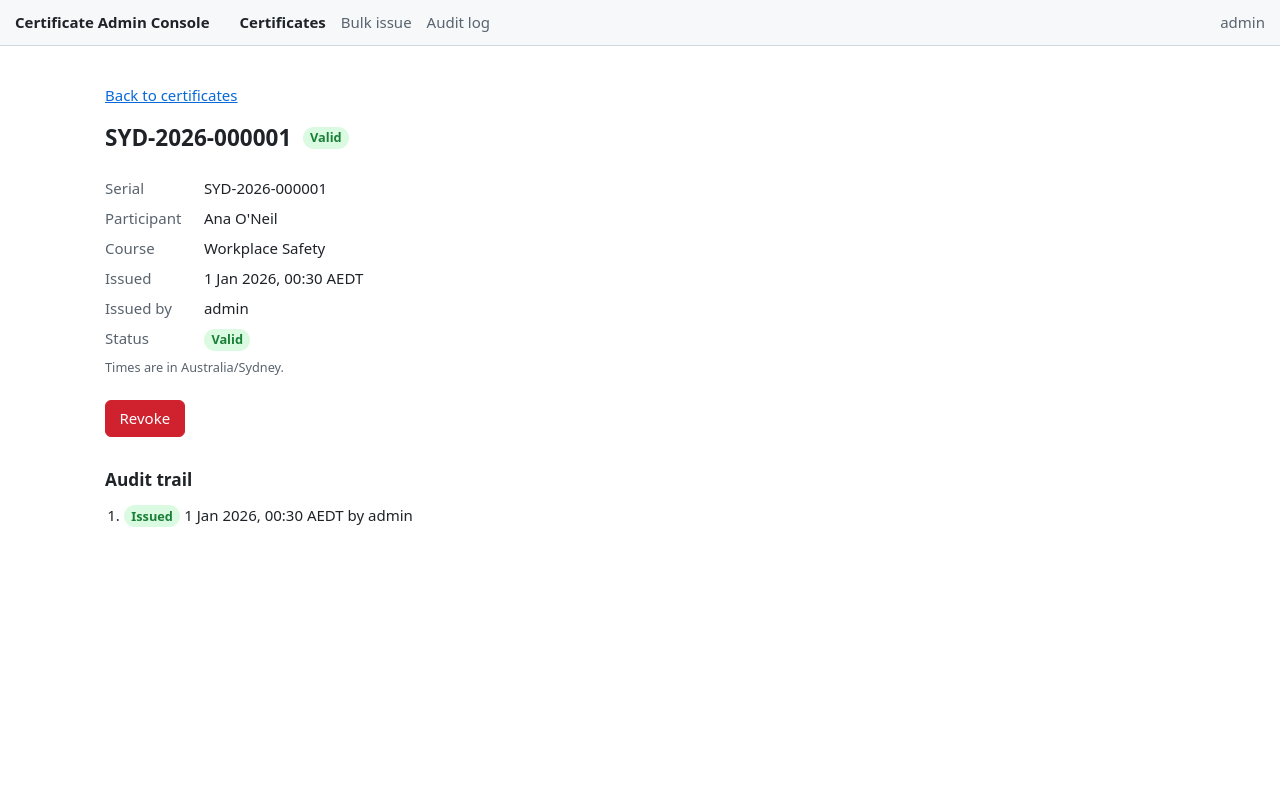
CertificateDetailPage › sends an empty body when no reason is given
Click the button "Revoke" at (145,418), box [105, 400, 185, 436]
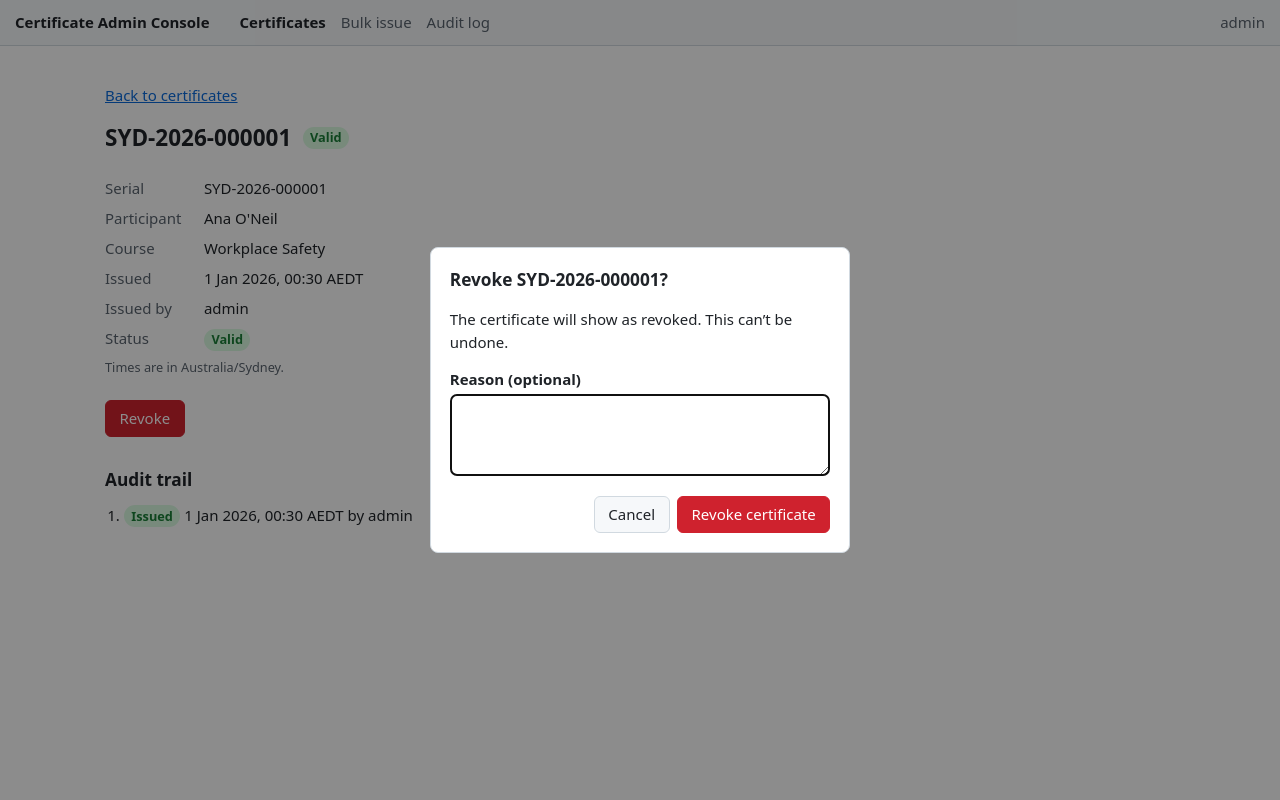
Click the button "Revoke certificate" at (754,515), box [677, 496, 830, 533]
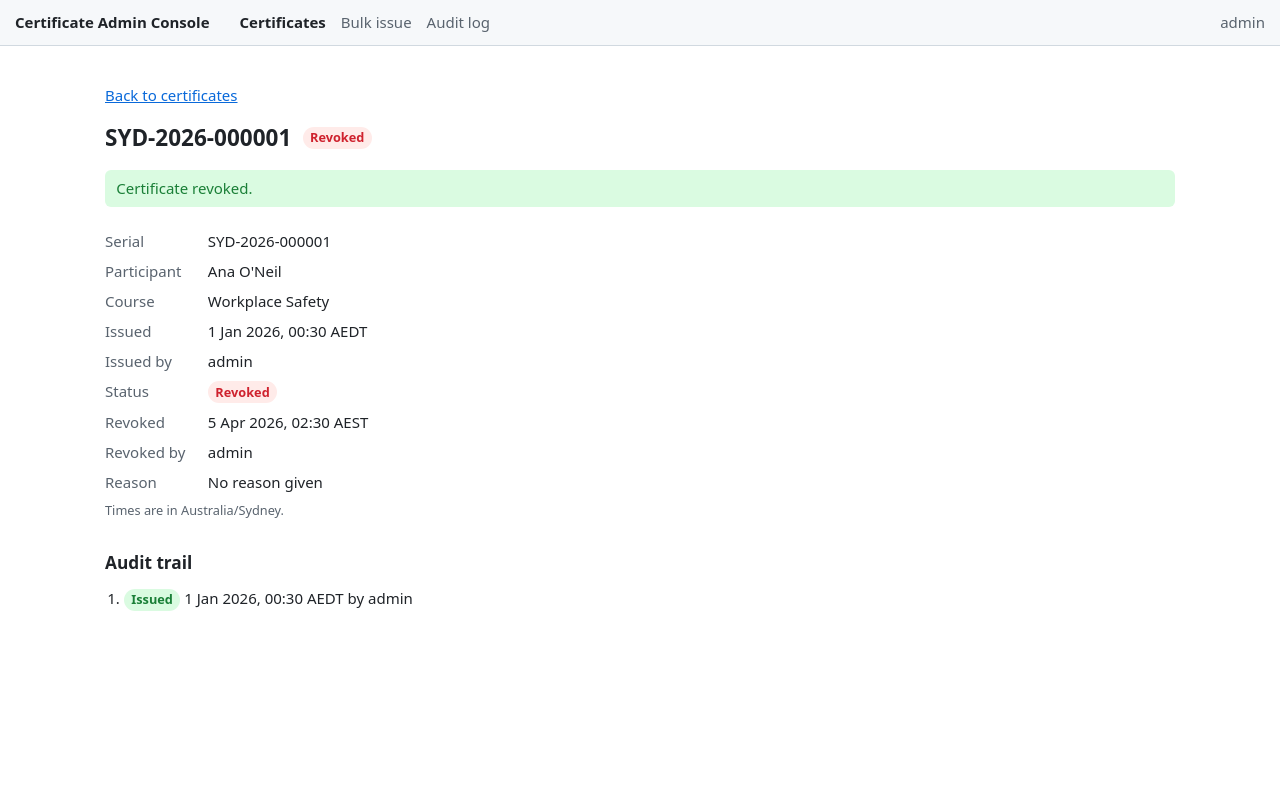
expect the text "Certificate revoked." is shown: met, box [105, 170, 1175, 207]
expect the text "No reason given" is shown: met, box [208, 472, 323, 492]
